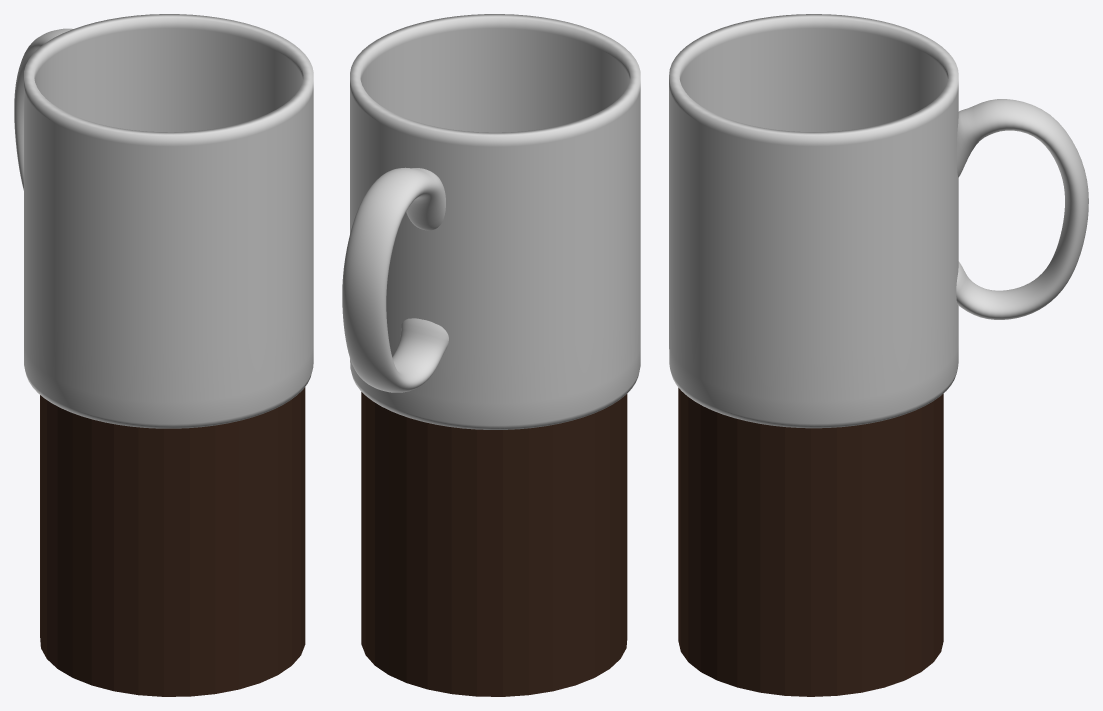
Rendered from koffiemok.fbx.
3 views of the same model, side by side, from view 1: azimuth 30°, elevation 25°; view 2: azimuth 150°, elevation 25°; view 3: azimuth 270°, elevation 25° (orthographic).
Parts seen in each view (by area): view 1: Cube_Cube.001, koffie.001; view 2: Cube_Cube.001, koffie.001; view 3: Cube_Cube.001, koffie.001.
Boxes of the visible parts, x1=… form: Cube_Cube.001: x1=14, y1=14, x2=313, y2=428; koffie.001: x1=40, y1=387, x2=305, y2=696; Cube_Cube.001: x1=342, y1=14, x2=640, y2=429; koffie.001: x1=361, y1=392, x2=627, y2=696; Cube_Cube.001: x1=669, y1=14, x2=1088, y2=428; koffie.001: x1=678, y1=387, x2=943, y2=696.
Bounding box in the file's own units: 130 × 279 × 188.
